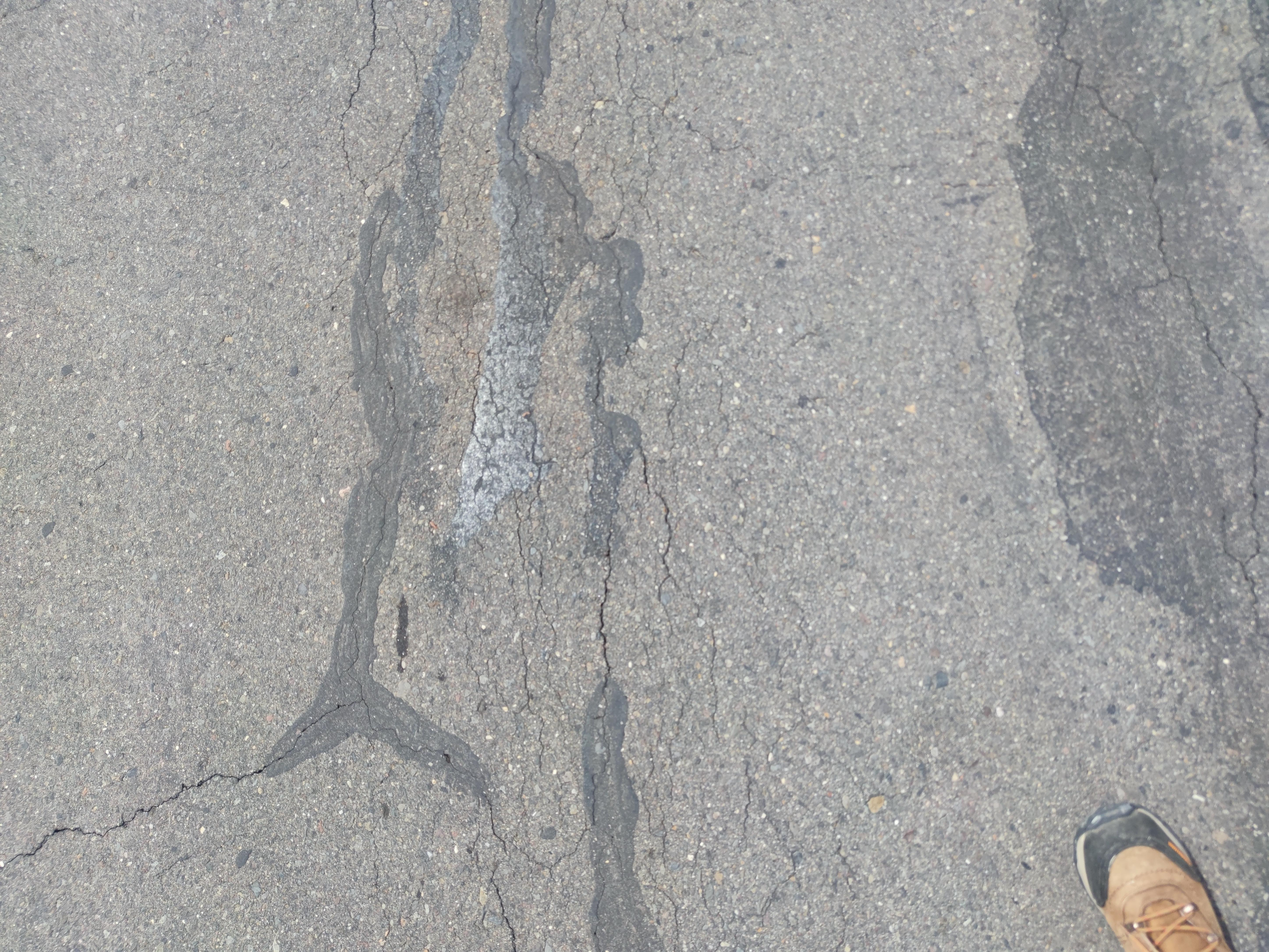GRIETA: (2, 698, 365, 866), (1147, 177, 1263, 539), (1056, 2, 1156, 177), (598, 534, 612, 697)
PIEL DE COCODRILO: (334, 1, 712, 952), (632, 297, 829, 947)
